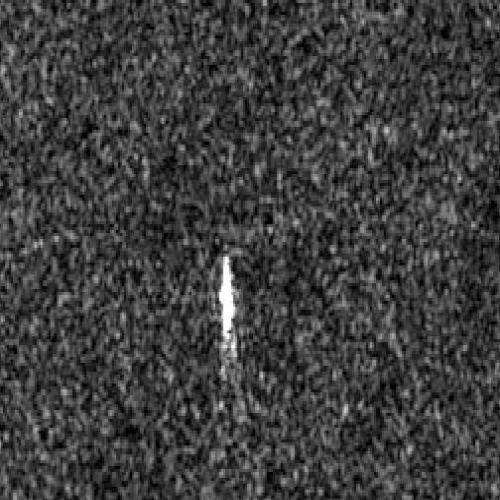ship: (218, 254, 236, 338)
